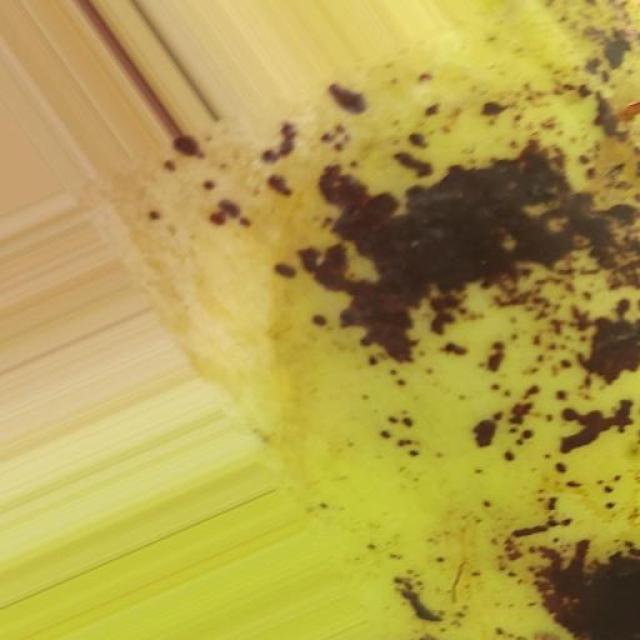Anthracnose: (55, 1, 640, 638)
